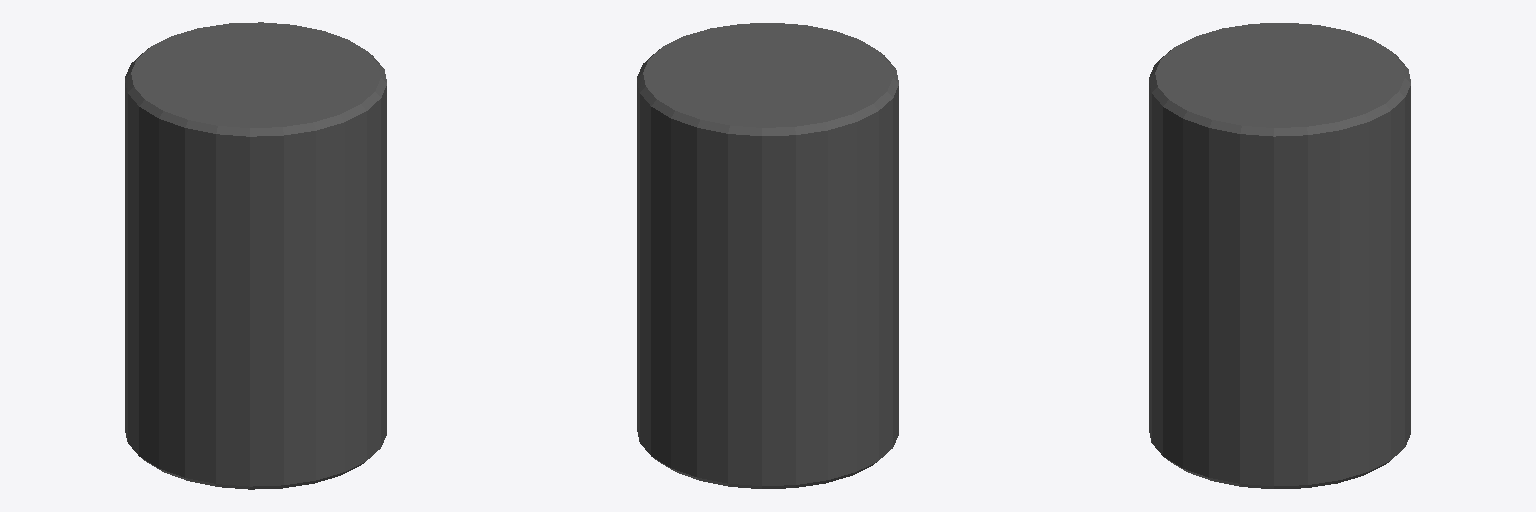
Rendered from barril.obj.
3 renders of one model, left to right at view 1: azimuth 30°, elevation 25°; view 2: azimuth 150°, elevation 25°; view 3: azimuth 270°, elevation 25°, orthographic.
Visible parts, largest first — view 1: barrel_barrel_Barrel_Mesh; view 2: barrel_barrel_Barrel_Mesh; view 3: barrel_barrel_Barrel_Mesh.
Part boxes in pixels (bbox=[...]): barrel_barrel_Barrel_Mesh: bbox=[125, 22, 386, 489]; barrel_barrel_Barrel_Mesh: bbox=[637, 23, 898, 488]; barrel_barrel_Barrel_Mesh: bbox=[1149, 23, 1410, 488].
Bounding box in the file's own units: 0.0348 × 0.0529 × 0.0348.